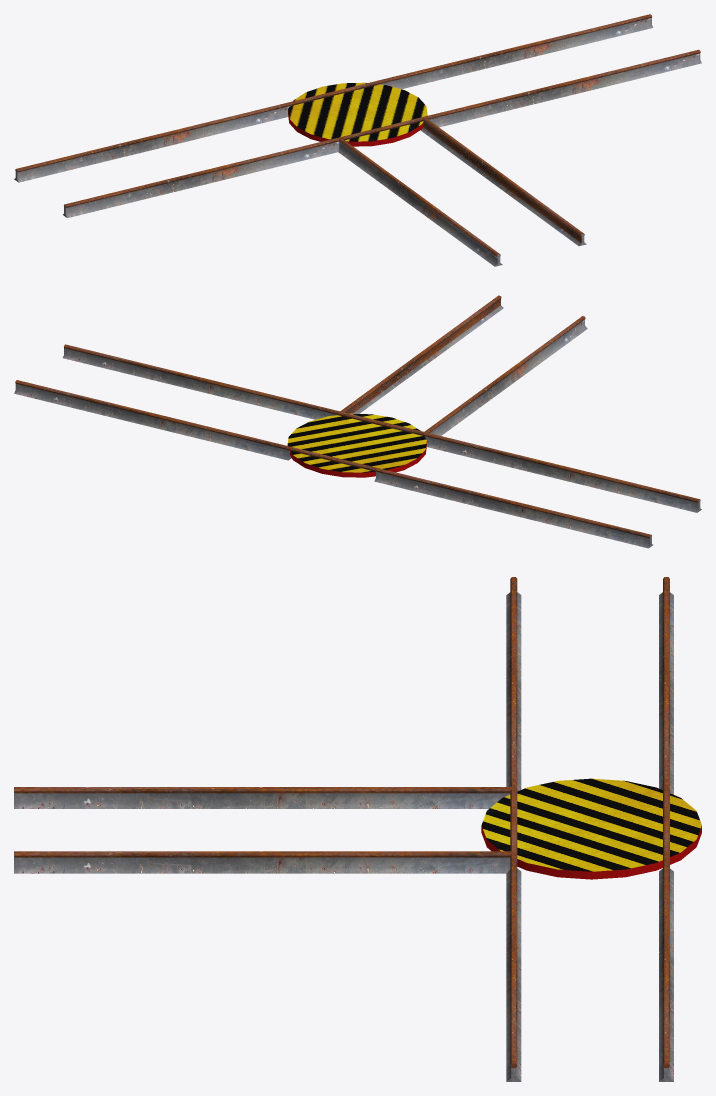
File: Rail_Pack.fbx
The picture shows the model from 3 angles, top to bottom: view 1: azimuth 30°, elevation 25°; view 2: azimuth 150°, elevation 25°; view 3: azimuth 270°, elevation 25°; orthographic projection. The views are drawn at different scales.
Visible parts, largest first — view 1: Turntable, Rail5, Rail6, Rail3, Rail4, Rail2, Rail1; view 2: Turntable, Rail6, Rail4, Rail5, Rail3, Rail1, Rail2; view 3: Turntable, Rail2, Rail1, Rail3, Rail4, Rail5, Rail6.
Part boxes in pixels (x1,y1,x2,y2): Turntable: [288, 81, 427, 146]; Rail5: [63, 137, 339, 217]; Rail6: [14, 102, 291, 182]; Rail3: [426, 49, 701, 127]; Rail4: [376, 14, 653, 89]; Rail2: [420, 117, 586, 246]; Rail1: [338, 138, 502, 266]; Turntable: [287, 411, 426, 477]; Rail6: [374, 468, 652, 548]; Rail4: [14, 380, 291, 460]; Rail5: [424, 432, 701, 512]; Rail3: [62, 344, 338, 419]; Rail1: [424, 316, 587, 435]; Rail2: [340, 295, 503, 413]; Turntable: [481, 778, 701, 879]; Rail2: [14, 851, 511, 873]; Rail1: [14, 787, 511, 808]; Rail3: [506, 854, 521, 1081]; Rail4: [659, 854, 673, 1081]; Rail5: [506, 577, 521, 791]; Rail6: [659, 577, 673, 794].
Size of the model in its own units: 11.57 by 0.2 by 6.91.
Materials: 4 (4 with a texture image).
